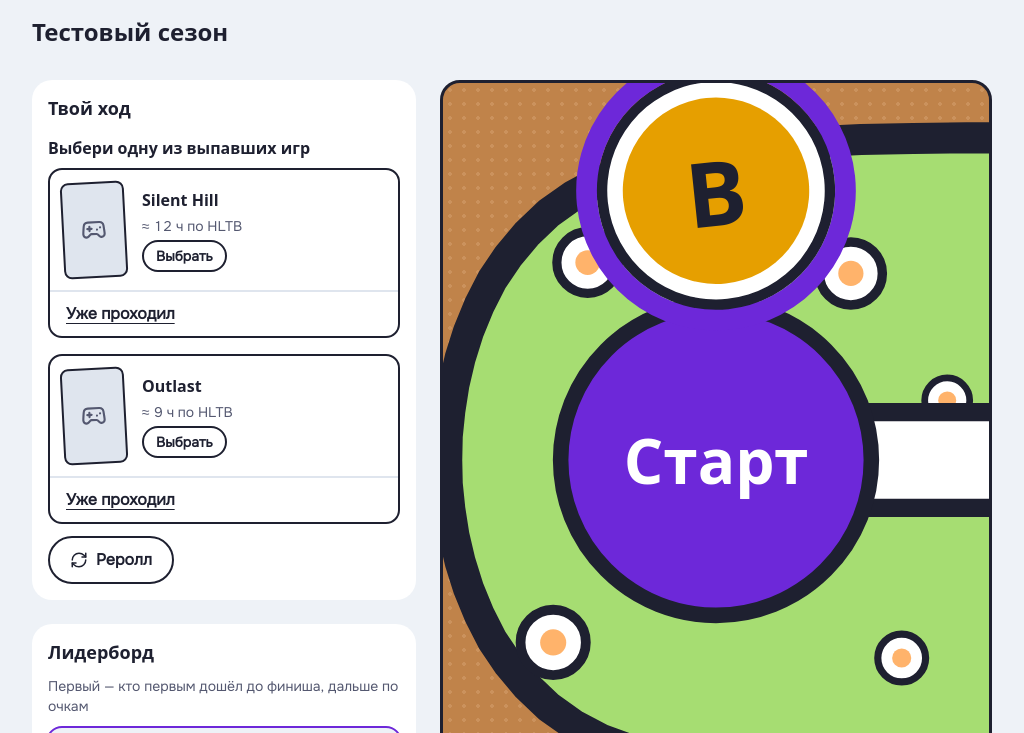
Test: SeasonScreen › explains a choice already made in another tab and refetches the season
The image size is (1024, 733).
Expected: the element with test id "choice" is shown, [48,136,400,584]
Step 1. Click the button with test id "option-b2" → (224, 416), box [50,356,398,476]
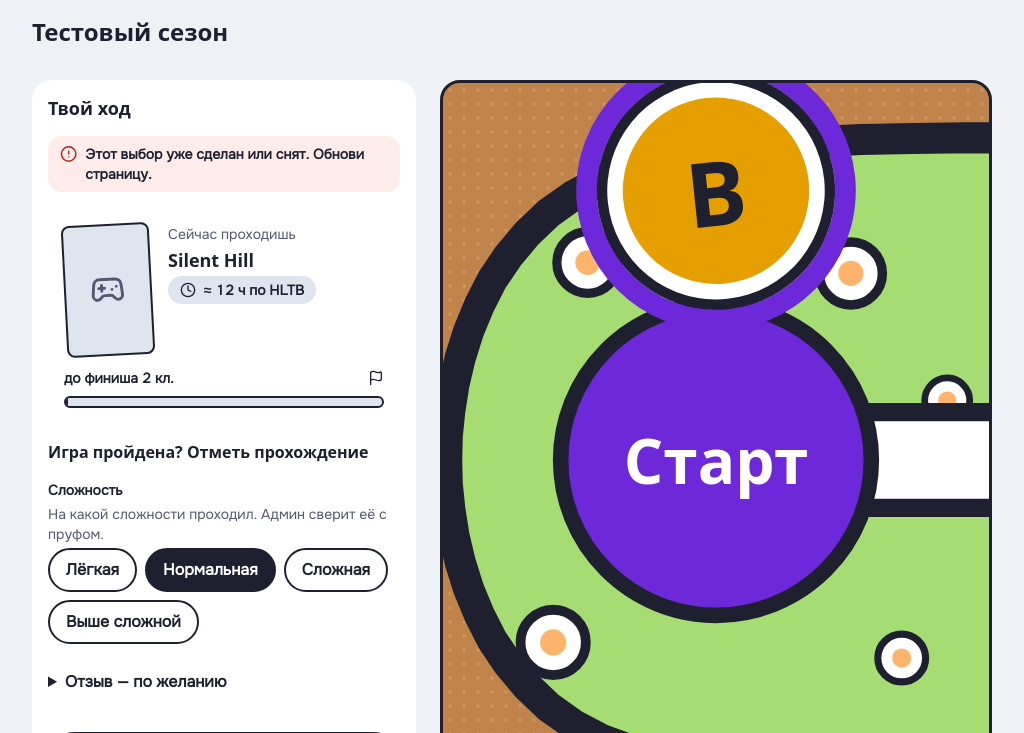
Expected: the message reads "Этот выбор уже сделан или снят. Обнови страницу.", [85,145,364,183]
Expected: the element with test id "choice" is gone
